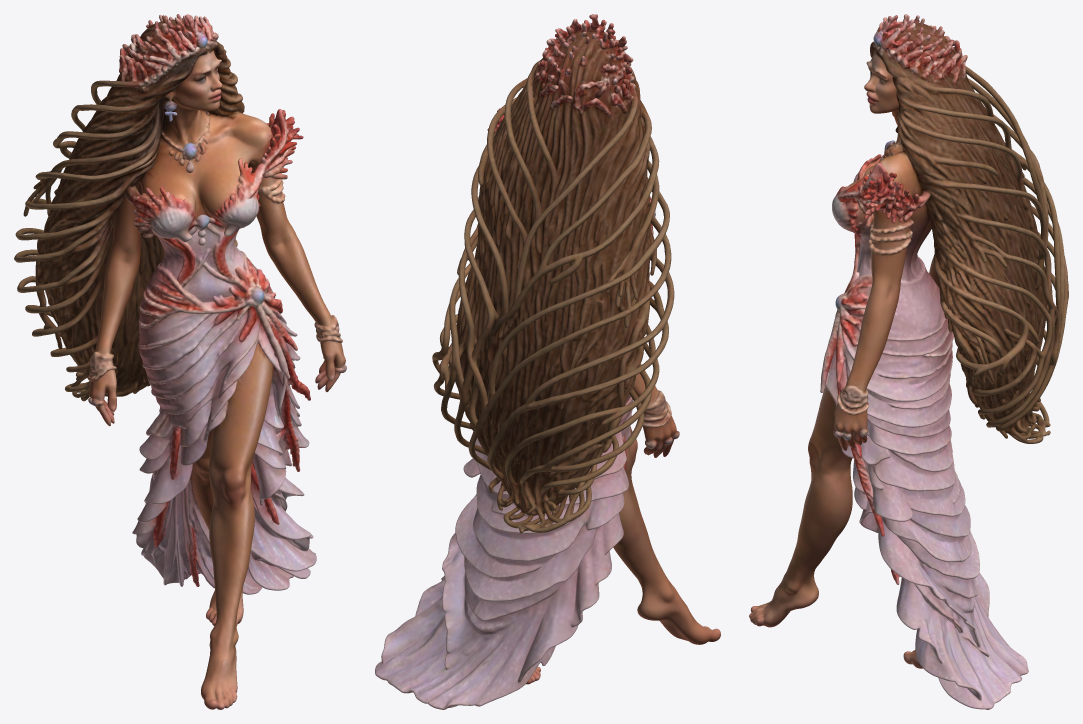
File: royal+feminine+figure+3d+model.glb
3 renders of one model, left to right at view 1: azimuth 30°, elevation 25°; view 2: azimuth 150°, elevation 25°; view 3: azimuth 270°, elevation 25°, orthographic. The views are drawn at different scales.
Parts seen in each view (by area): view 1: tripo_node_623f3d4c-049d-44a8-b6a7-f1c36eaca703; view 2: tripo_node_623f3d4c-049d-44a8-b6a7-f1c36eaca703; view 3: tripo_node_623f3d4c-049d-44a8-b6a7-f1c36eaca703.
Boxes of the visible parts, <box> form: tripo_node_623f3d4c-049d-44a8-b6a7-f1c36eaca703: <box>14,14,346,709</box>; tripo_node_623f3d4c-049d-44a8-b6a7-f1c36eaca703: <box>375,14,720,709</box>; tripo_node_623f3d4c-049d-44a8-b6a7-f1c36eaca703: <box>749,14,1068,709</box>.
Size of the model in its own units: 0.4601 by 1 by 0.4644.
Materials: 1 (1 with a texture image).
